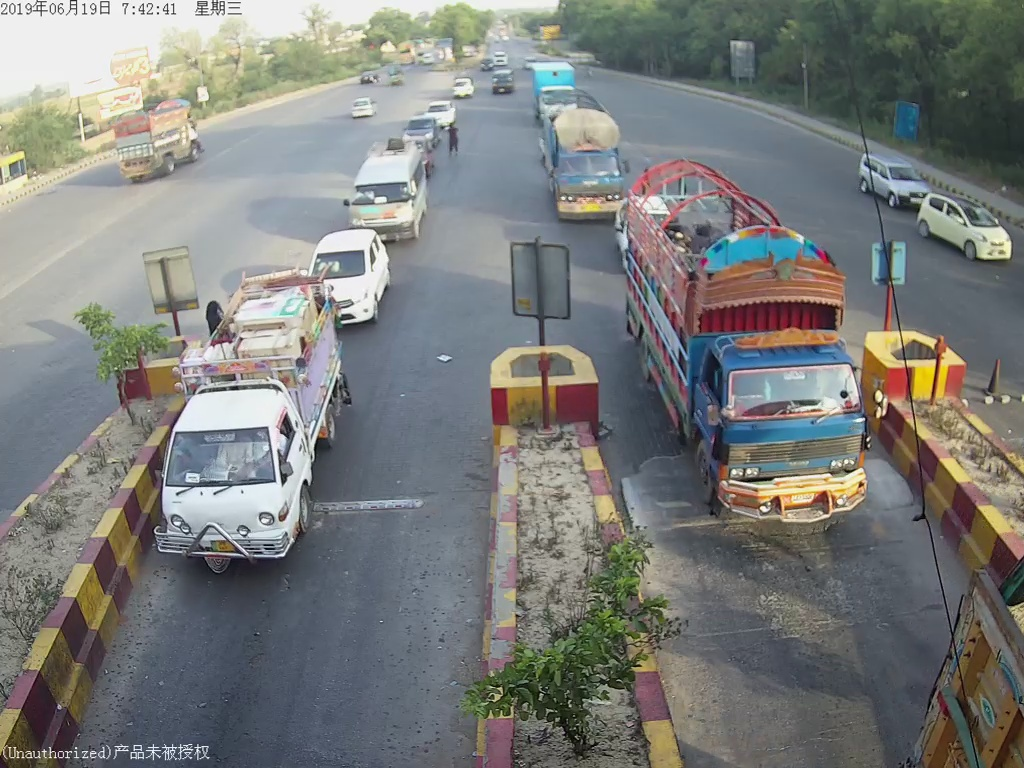Cat-1: (307, 227, 385, 302)
Cat-2: (631, 193, 875, 539), (168, 280, 351, 556), (345, 154, 421, 231)
